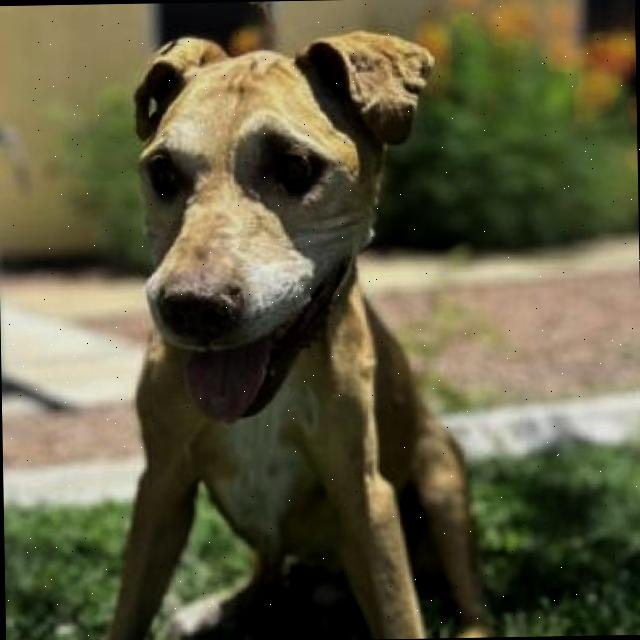labrador_retriever_dog: (90, 21, 450, 437)
